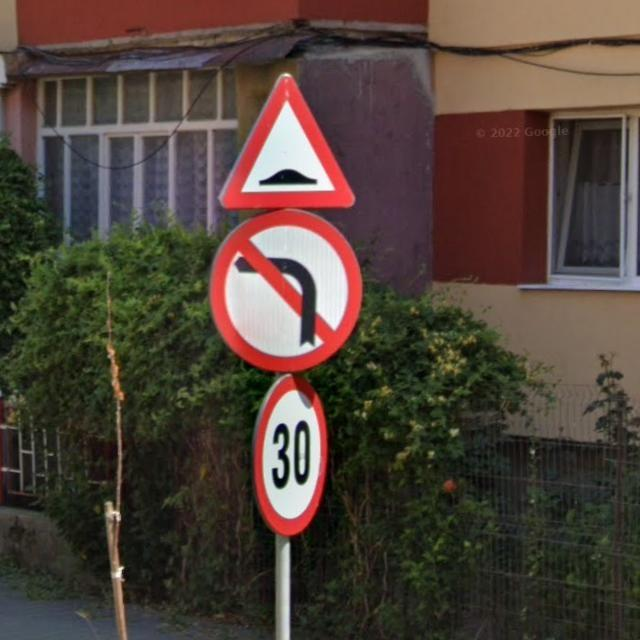forb_speed_over_60: (251, 371, 328, 537)
